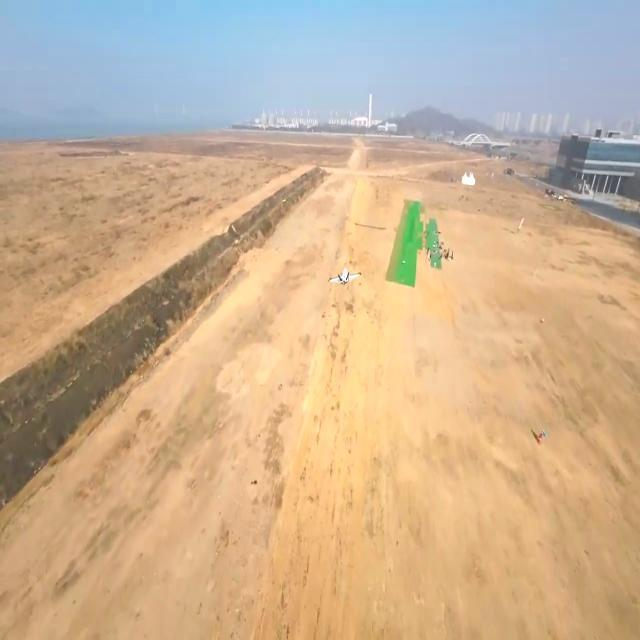iha: (328, 267, 361, 286)
